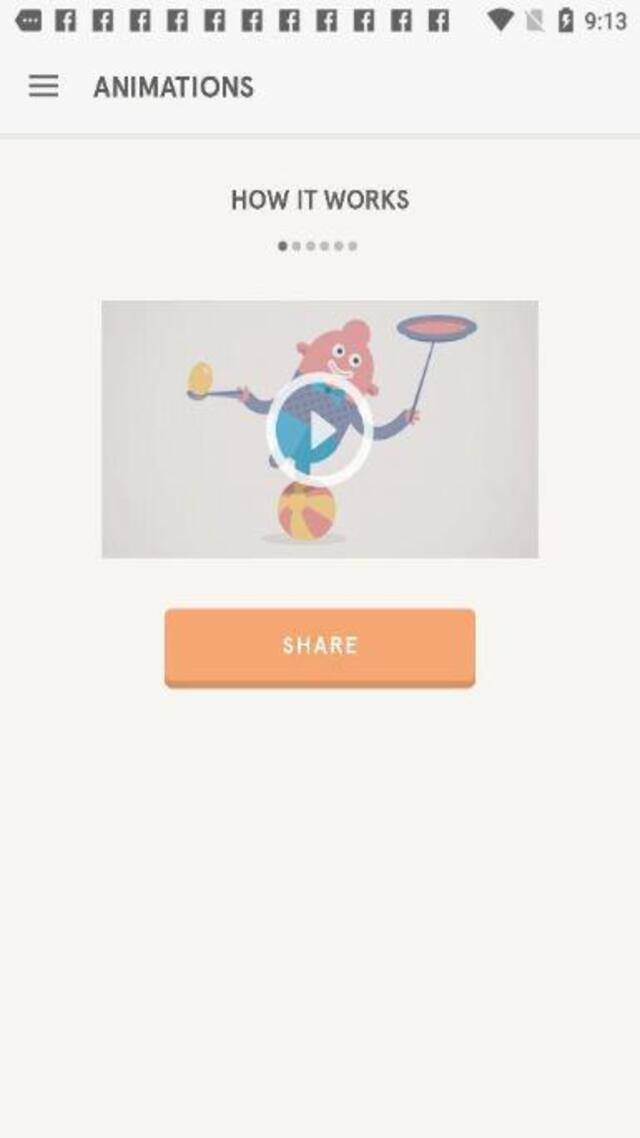Icon: (27, 73, 59, 98)
Image: (100, 299, 538, 558)
Text: (231, 188, 411, 209), (92, 76, 254, 98), (273, 634, 364, 658)
TextButton: (163, 606, 474, 688)
